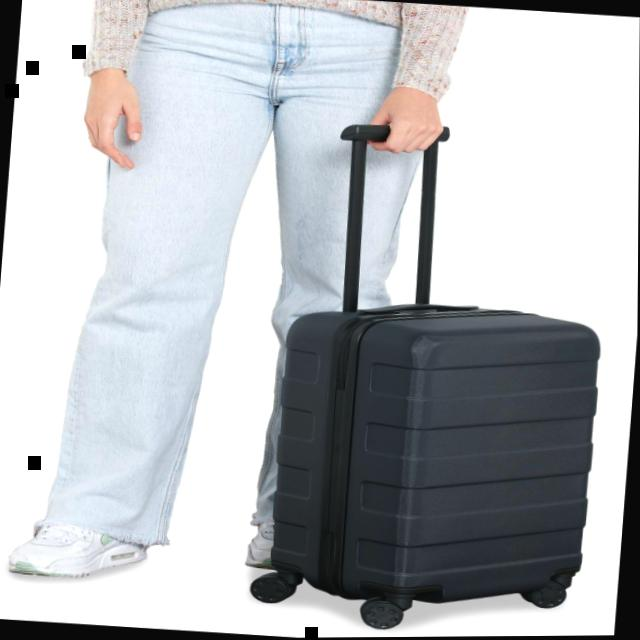luggage: (251, 282, 605, 617)
